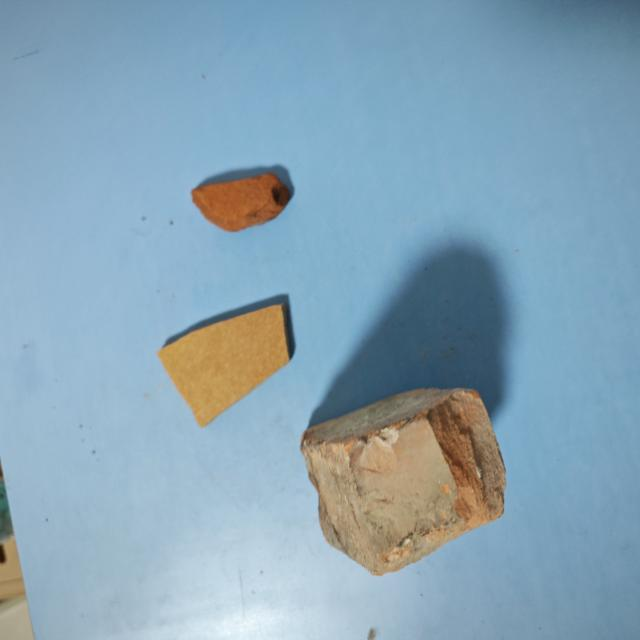-Other waste - brick-: (192, 171, 294, 233)
-Other waste - ceramic-: (302, 380, 512, 574), (157, 298, 296, 428)
